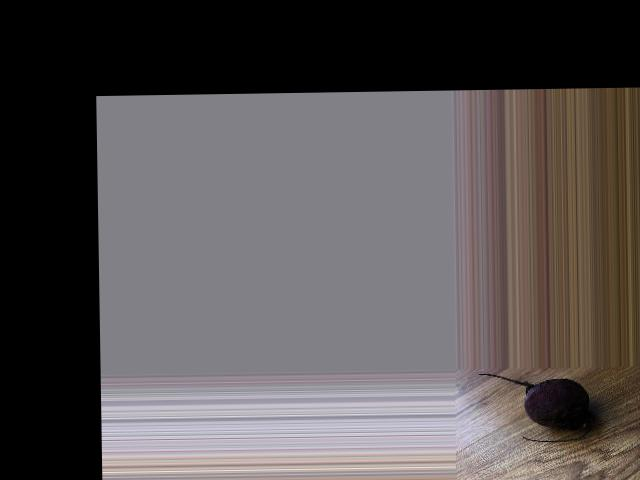beet: (478, 371, 593, 442)
